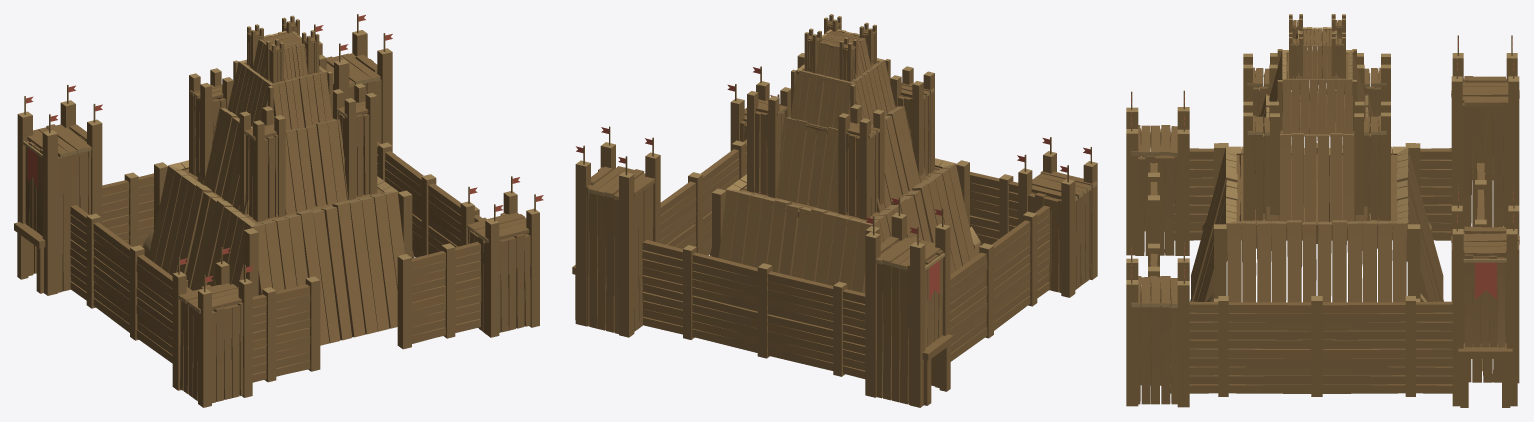
Rendered from Wonder First Age Leve.glb.
3 renders of one model, left to right at view 1: azimuth 30°, elevation 25°; view 2: azimuth 150°, elevation 25°; view 3: azimuth 270°, elevation 25°, orthographic. The views are drawn at different scales.
Parts seen in each view (by area): view 1: Wonder_FirstAge_Level3; view 2: Wonder_FirstAge_Level3; view 3: Wonder_FirstAge_Level3.
Part boxes in pixels (x1,y1,x2,y2): Wonder_FirstAge_Level3: (14, 14, 543, 407); Wonder_FirstAge_Level3: (572, 14, 1097, 407); Wonder_FirstAge_Level3: (1126, 14, 1519, 407).
Size of the model in its own units: 2.2 by 1.6 by 1.95.
